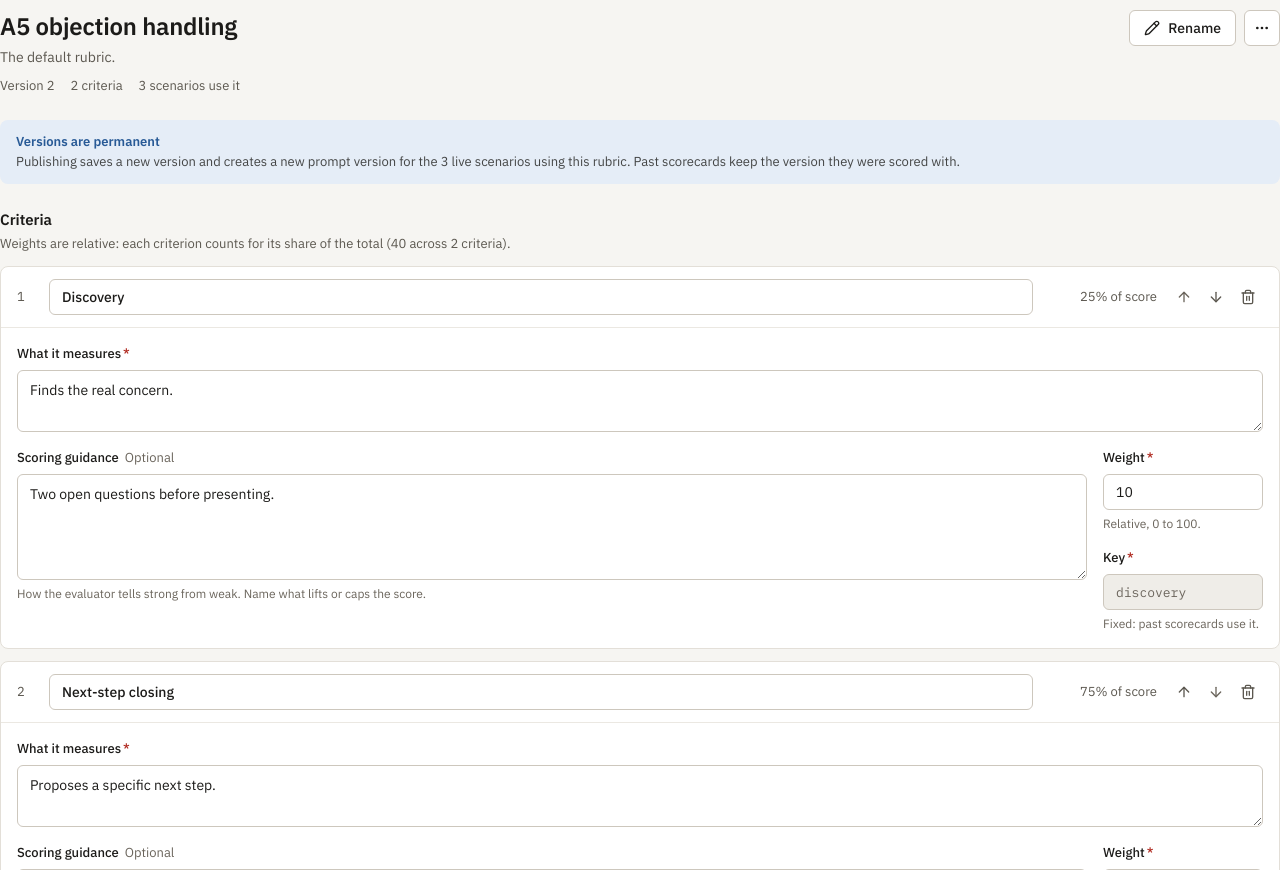
it: rubric editor › publishes the edited criteria as a new version
Expected: the heading "A5 objection handling" is shown, [0,10,240,42]
Replace the text in the number field labelled "Weight*" below "25% of score" with "30": (1183, 492) [1103,474,1263,510]
(page scrolled)
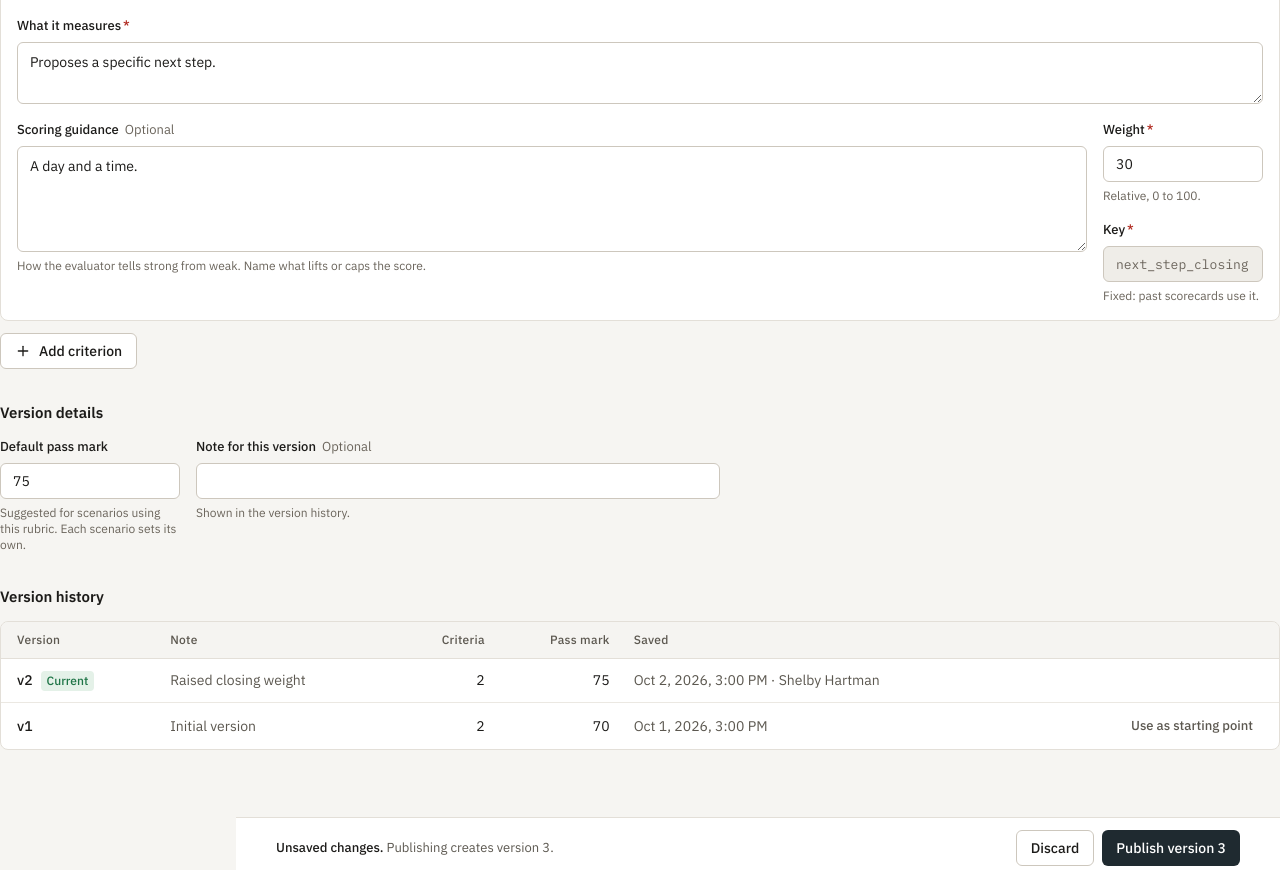
In the field labelled "Note for this version": (458, 481) [196,463,720,499], type "Equal weight"
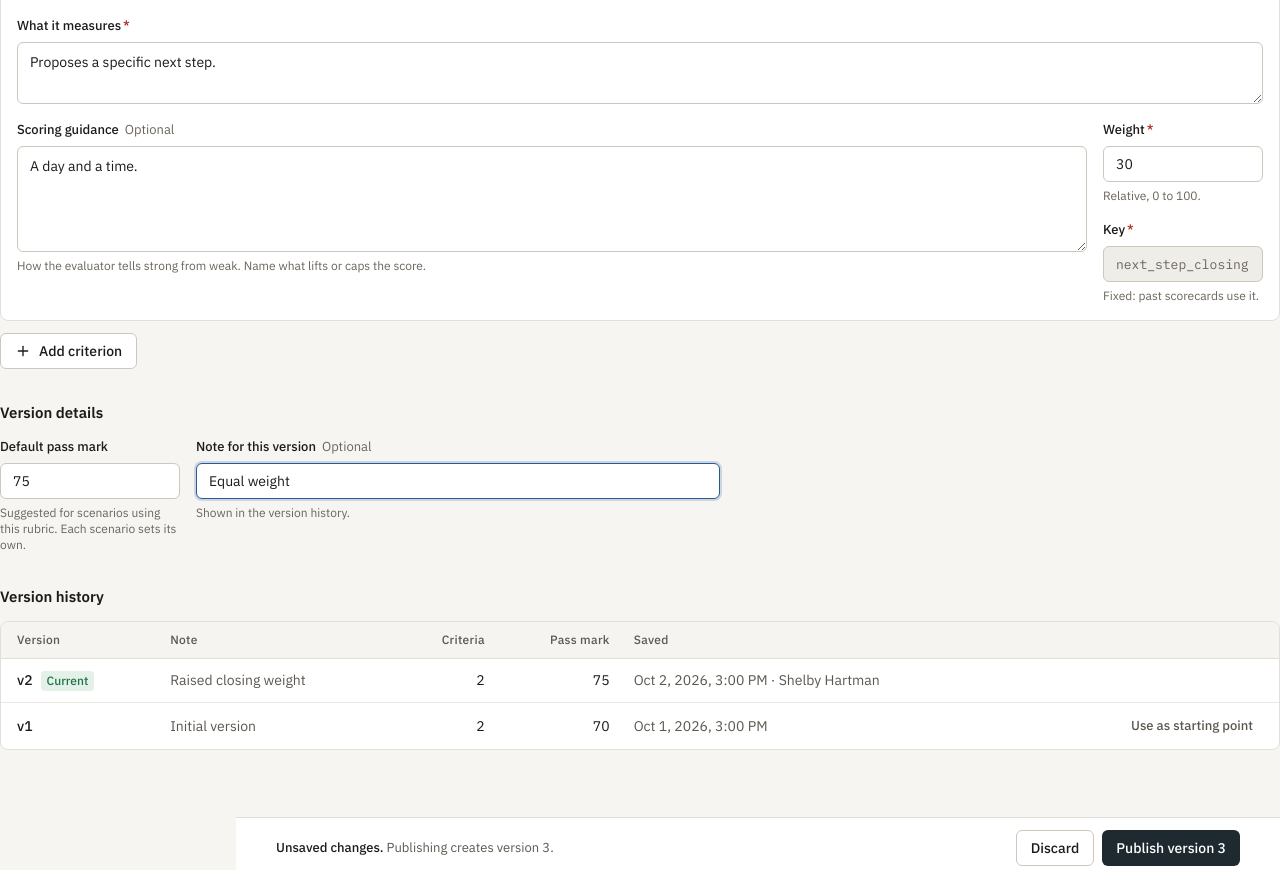
Click the button "Publish version 3": (1171, 848) [1102,830,1240,866]
(page scrolled)
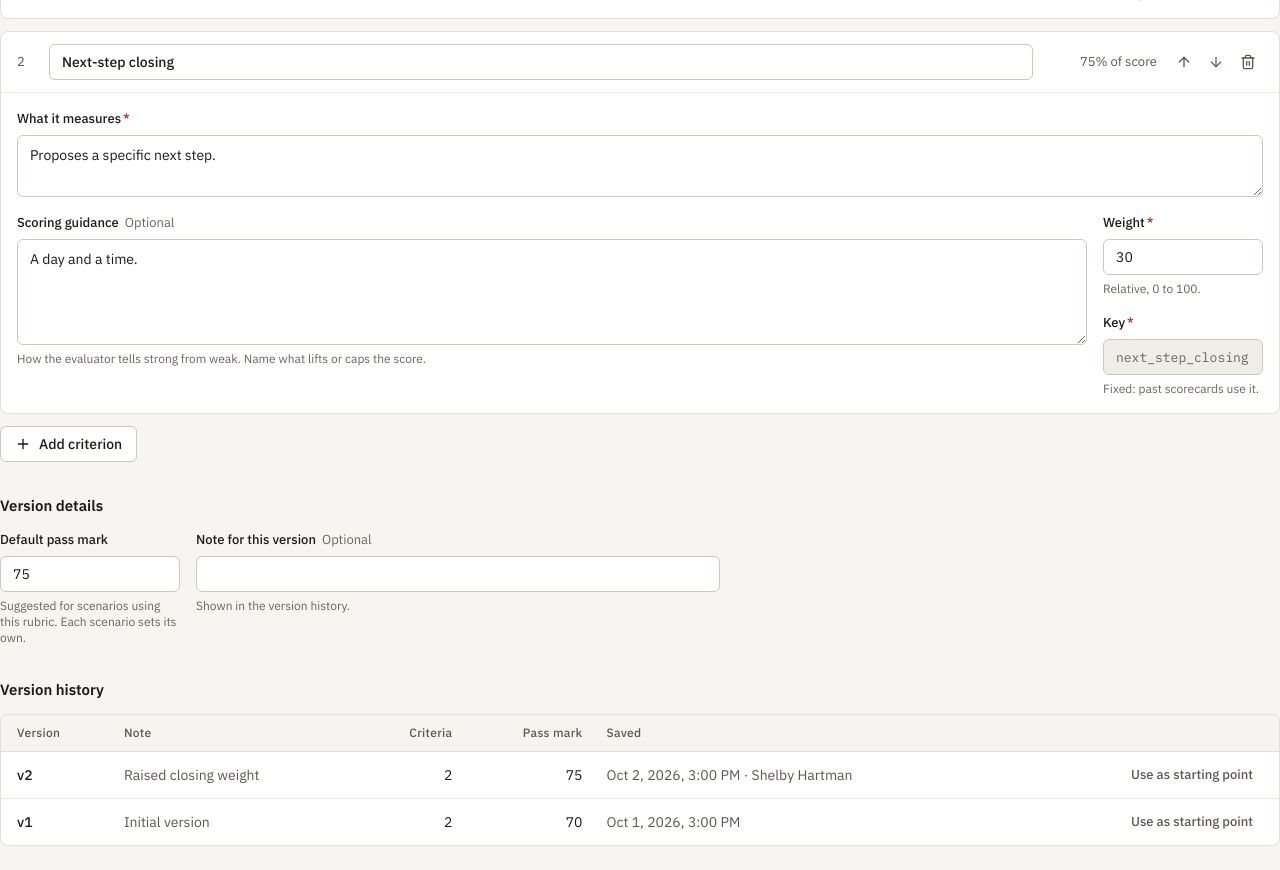
Now the text "Unsaved changes" is gone
